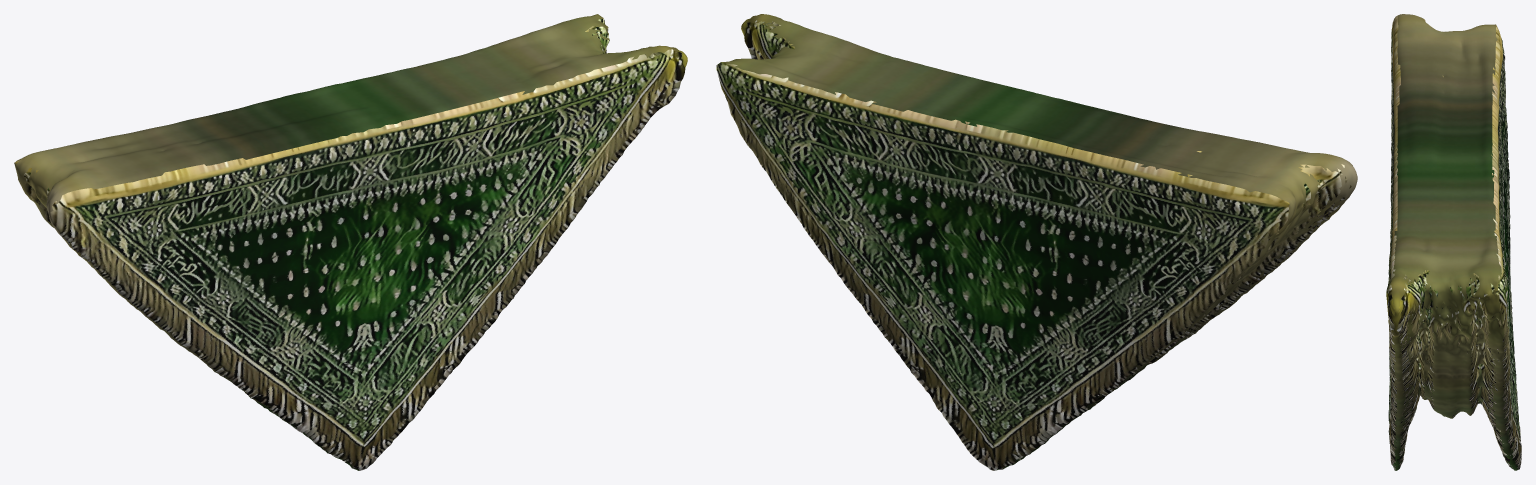
Rendered from kfl-2204.glb.
The picture shows the model from 3 angles, left to right: view 1: azimuth 30°, elevation 25°; view 2: azimuth 150°, elevation 25°; view 3: azimuth 270°, elevation 25°; orthographic projection. The views are drawn at different scales.
Visible parts, largest first — view 1: kfl-2204; view 2: kfl-2204; view 3: kfl-2204.
Part boxes in pixels (x1,y1,x2,y2): kfl-2204: [14, 14, 687, 470]; kfl-2204: [716, 14, 1357, 470]; kfl-2204: [1386, 14, 1521, 470].
Bounding box in the file's own units: 0.9909 × 0.5229 × 0.1979.
Materials: 4 (4 with a texture image).
